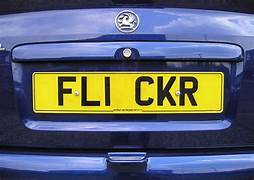number_plate: (33, 72, 223, 114)
